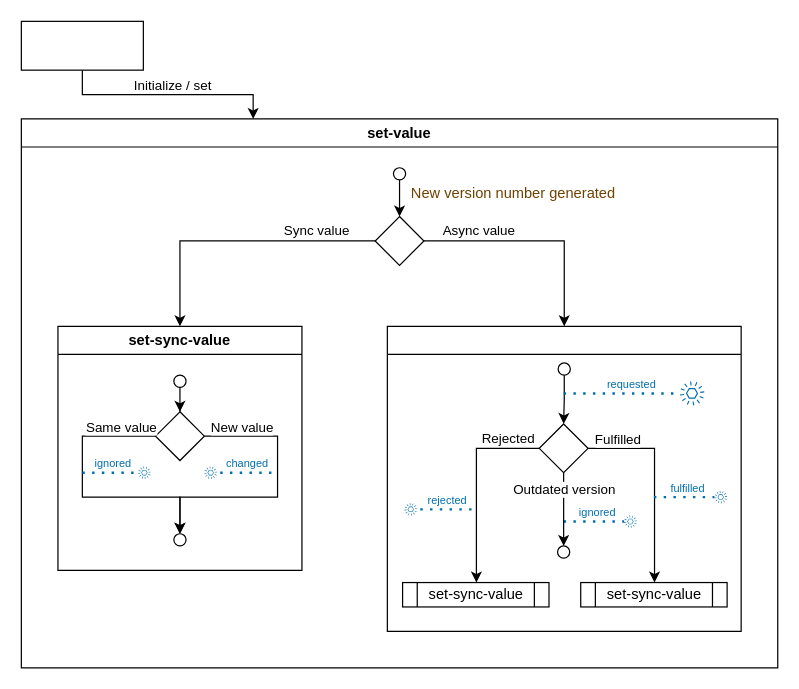
The diagram is 799 pixels wide and 689 high, and some of its shapes have lost their labels. Each missing label, with the box of its shape:
AsyncState: (20, 20, 143, 70)
set-async-value: (386, 325, 741, 631)
